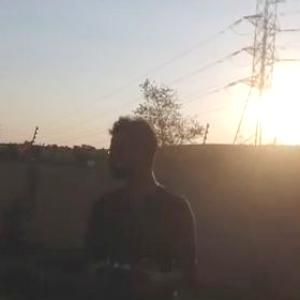follow: (66, 106, 195, 299)
